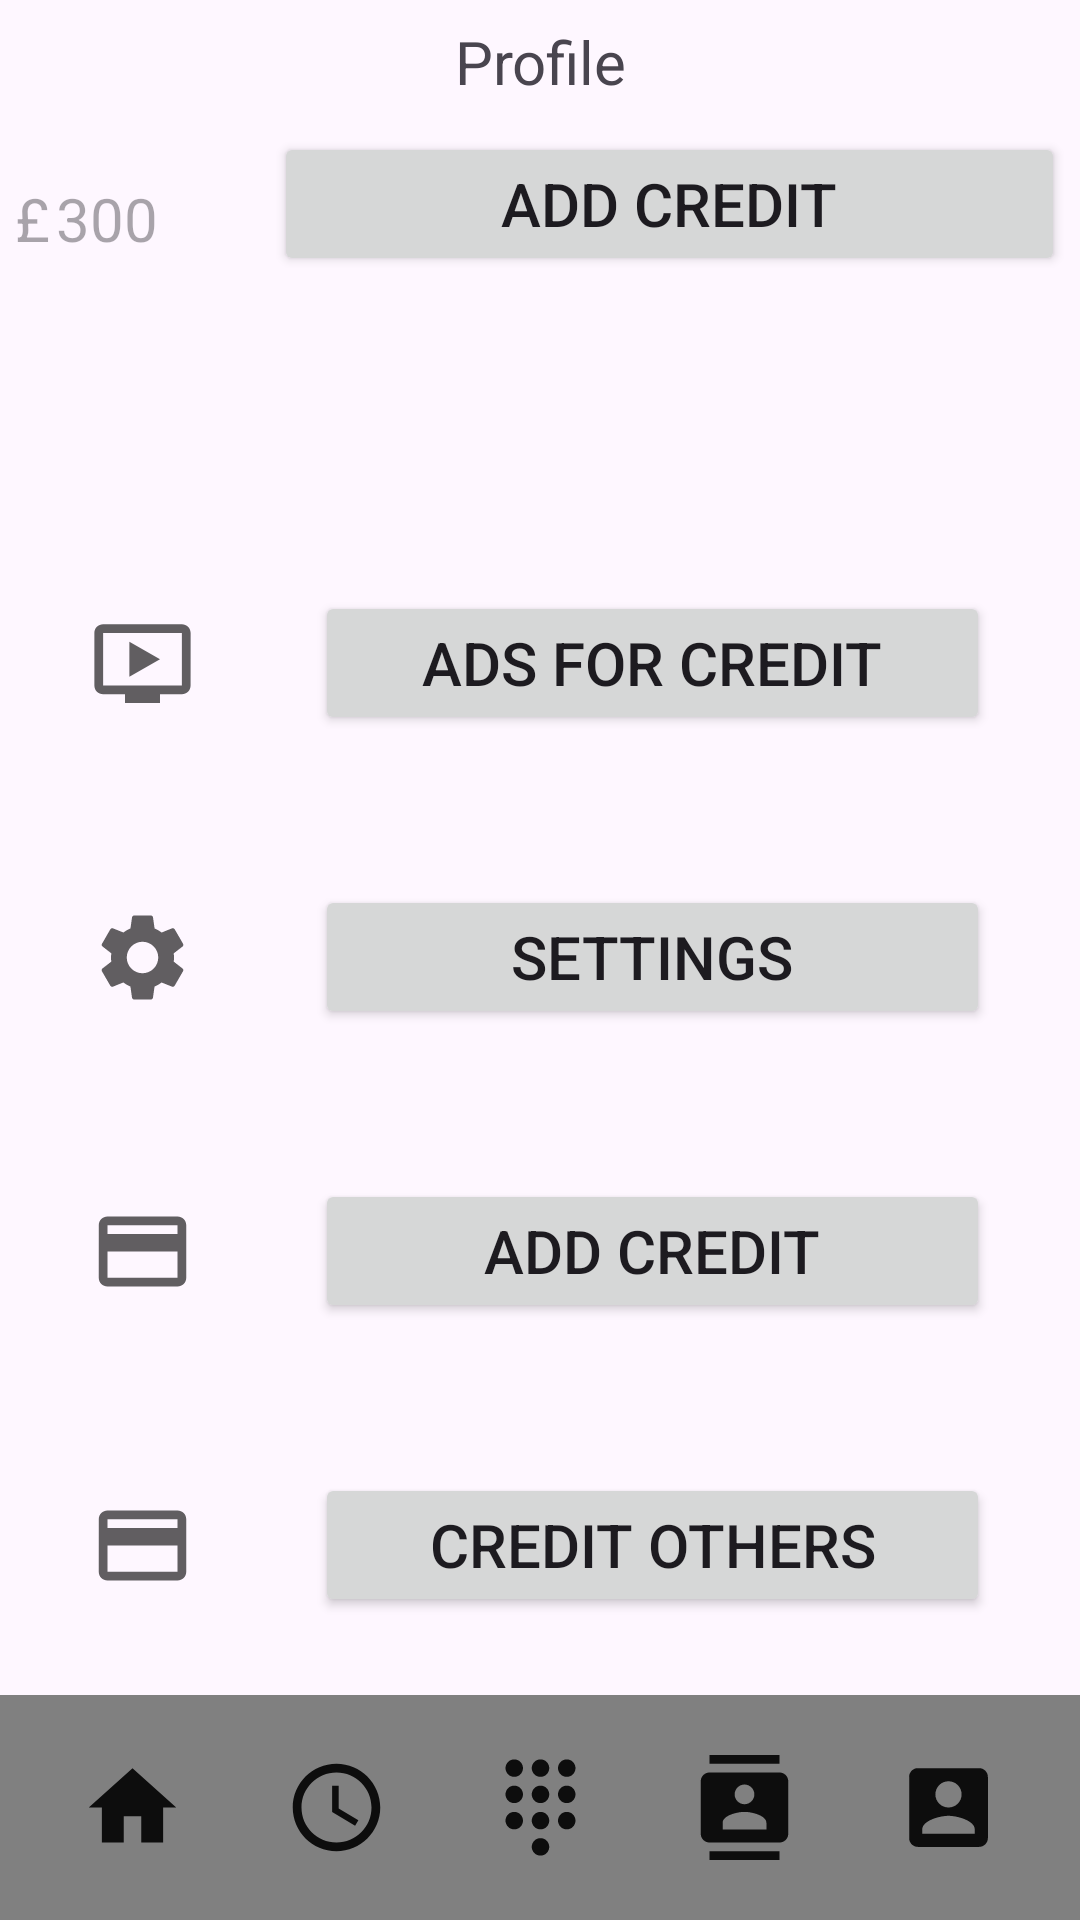

Where icons sit on this 1080 × 1920 app screen, as bbox(x1, y1, x2, y2):
Contact: bbox(700, 1755, 789, 1860)
Dialpad: bbox(505, 1759, 576, 1856)
Home: bbox(89, 1768, 176, 1843)
Profile: bbox(909, 1768, 988, 1847)
Recent: bbox(292, 1763, 381, 1852)
video ads: bbox(94, 624, 191, 703)
